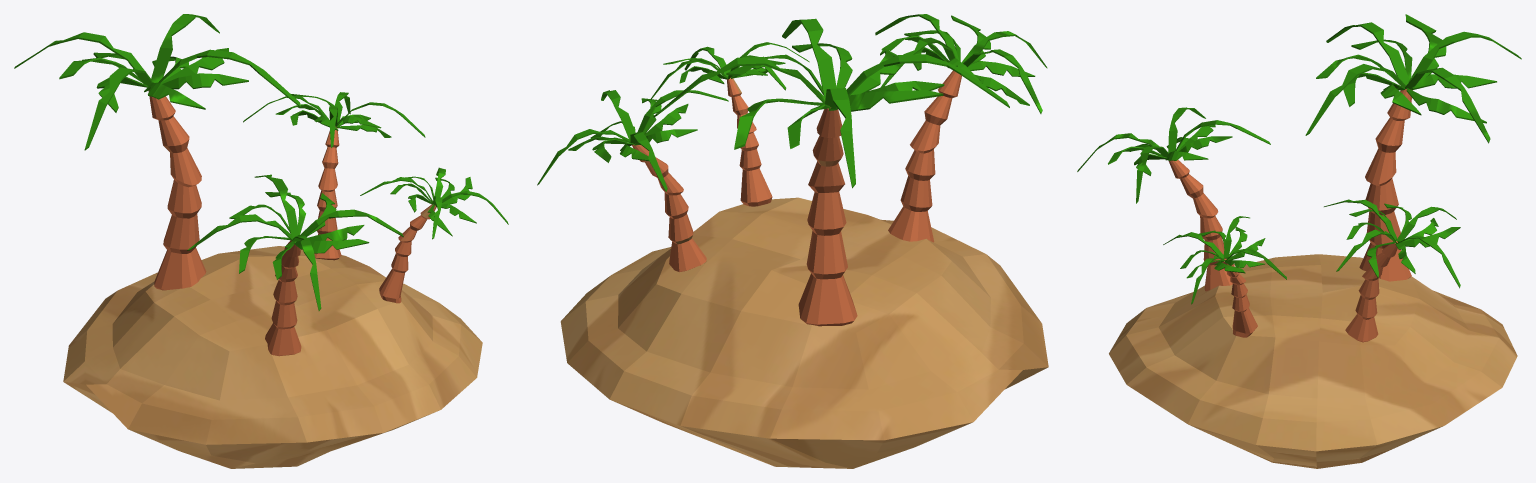
File: islandT.obj
3 renders of one model, left to right at view 1: azimuth 30°, elevation 25°; view 2: azimuth 150°, elevation 25°; view 3: azimuth 270°, elevation 25°, orthographic. The views are drawn at different scales.
Visible parts, largest first — view 1: Island; view 2: Island; view 3: Island.
Boxes of the visible parts, x1,y1,x2,y2 form: Island: (14,14,508,468); Island: (537,14,1048,468); Island: (1077,14,1521,468).
Size of the model in its own units: 4.59 by 4.65 by 5.01.
